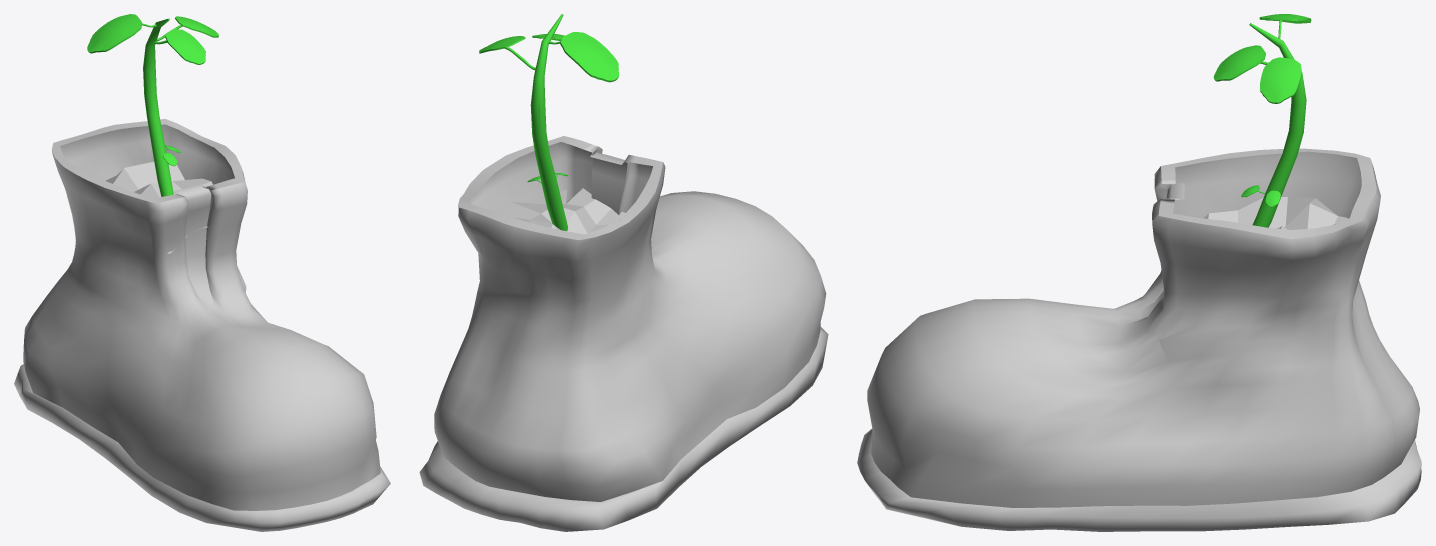
File: planta.obj
3 views of the same model, side by side, from view 1: azimuth 30°, elevation 25°; view 2: azimuth 150°, elevation 25°; view 3: azimuth 270°, elevation 25° (orthographic). The views are drawn at different scales.
Parts seen in each view (by area): view 1: bota, bota.001; view 2: bota, bota.001; view 3: bota, bota.001.
Boxes of the visible parts, bbox=[...] form: bota: bbox=[14, 119, 390, 531]; bota.001: bbox=[87, 14, 218, 196]; bota: bbox=[419, 136, 828, 531]; bota.001: bbox=[479, 14, 619, 230]; bota: bbox=[857, 148, 1421, 531]; bota.001: bbox=[1213, 14, 1311, 227].
Bounding box in the file's own units: 5.78 × 10.34 × 11.51.
